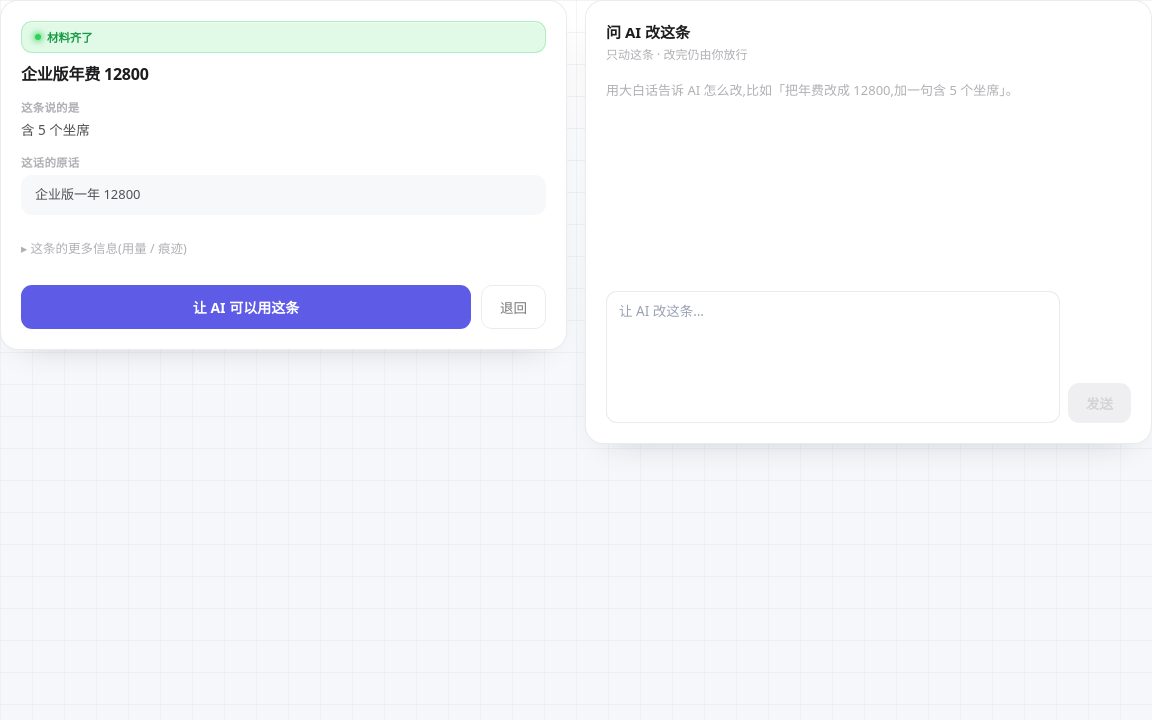
Test: ReviewChat › 对话产 patch → AI 回合下渲染 patch diff 预览(字段中文label + 新值)
The image size is (1152, 720).
Type "把年费改成 19800" into the text box with placeholder "让 AI 改这条…" at (833, 357), box [606,291,1060,423]
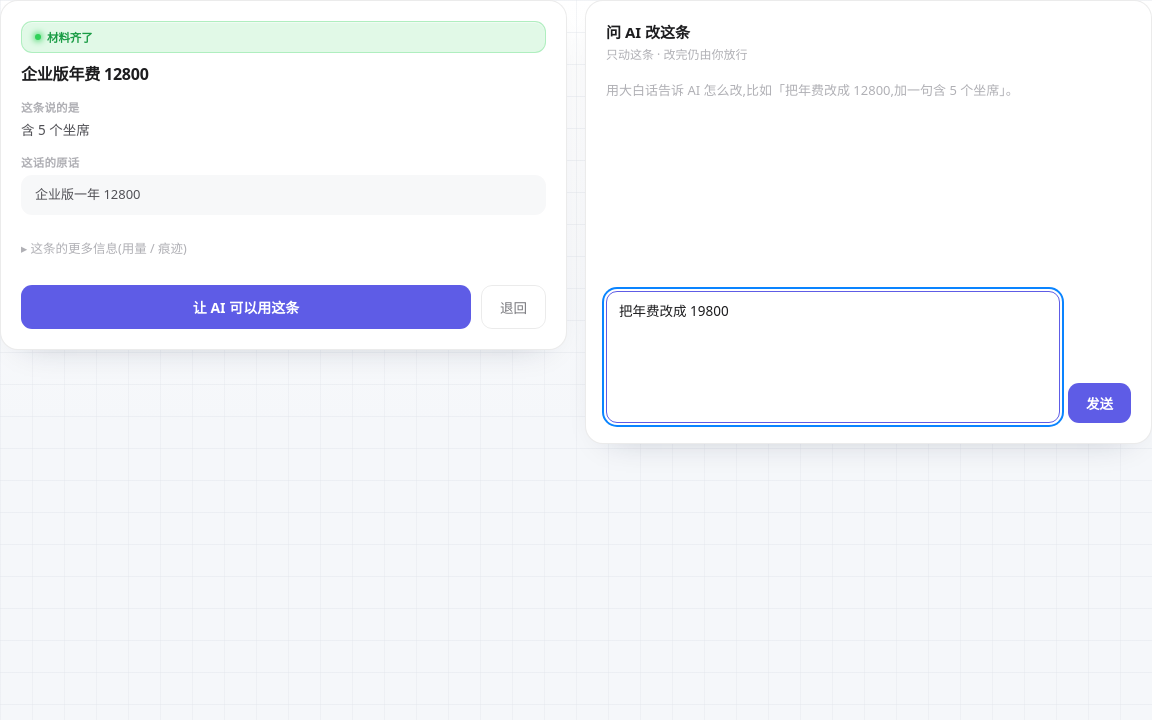
Click the button "发送" at (1100, 403), box [1068,383,1131,423]
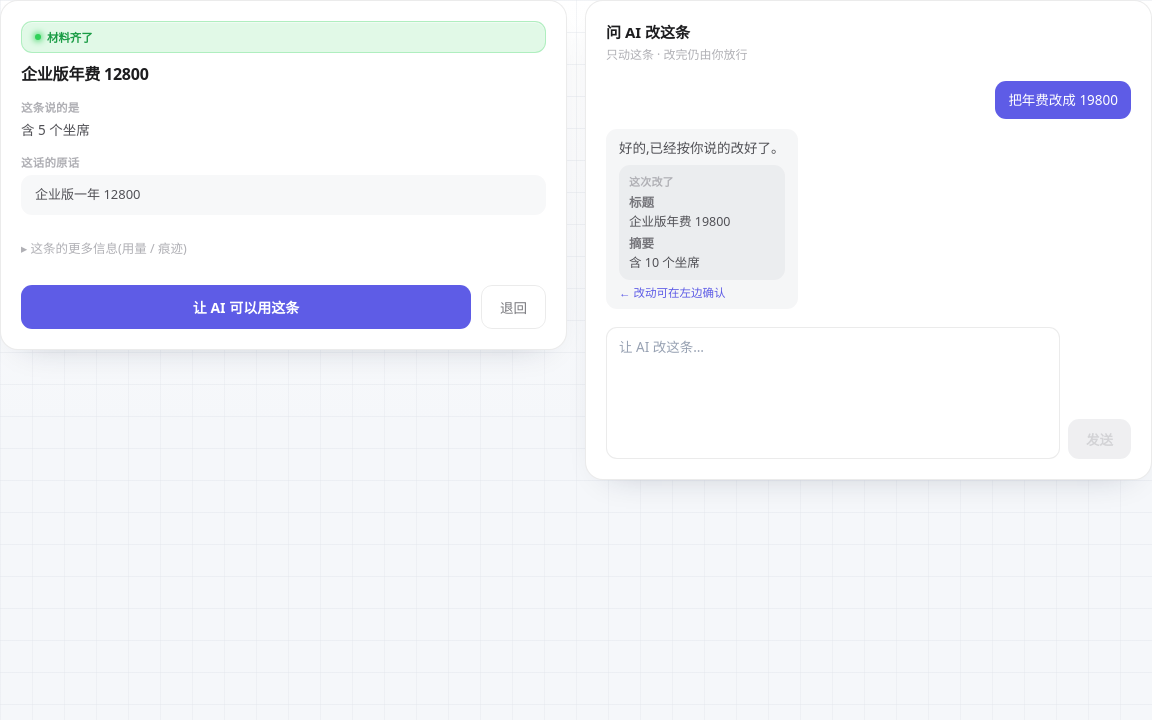
Now the text "标题" is shown, box [629,194,654,210]
Now the text "摘要" is shown, box [629,235,654,252]
Now the text "企业版年费 19800" is shown, box [629,213,730,230]
